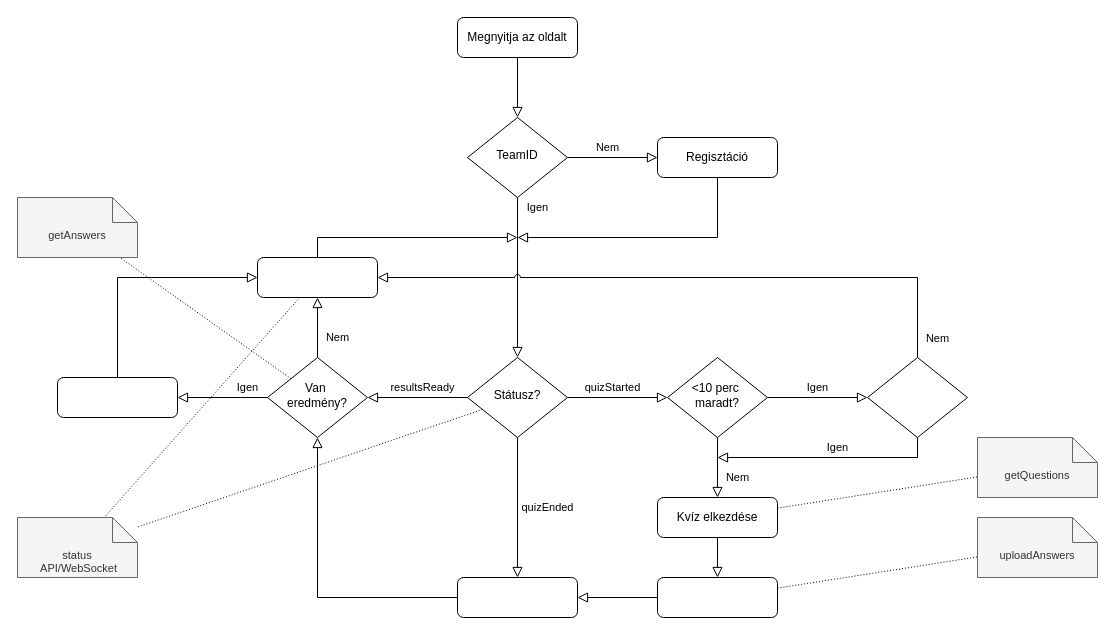
The diagram is 1115 pixels wide and 635 high, and some of its shapes have lost their labels. The shapes that lost their labels are listed below. From the top down, each one's box as (x1, y1, x2, y2) in pixels, then its label:
(256, 256, 378, 298): Várakozás új eventre
(56, 376, 178, 418): Eredmény megtekintése
(866, 356, 968, 438): Biztos elkezdi?
(456, 576, 578, 618): Várakozás eredményre
(656, 576, 778, 618): Kvíz beadása
